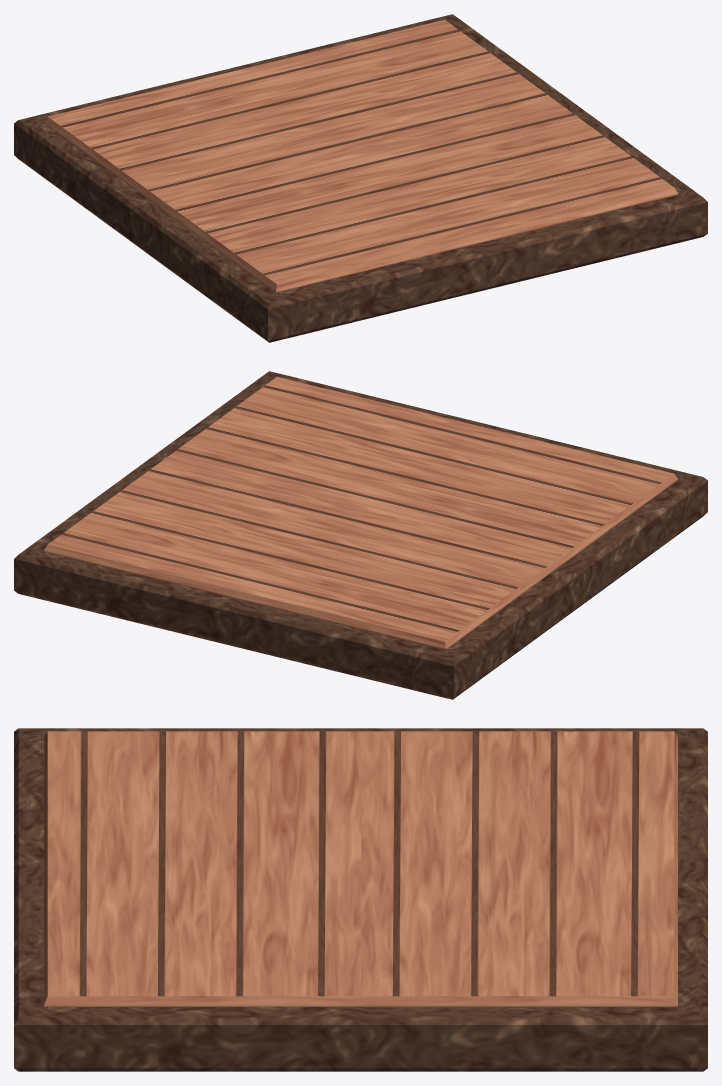
Rendered from big_moving_platform.fbx.
The picture shows the model from 3 angles, top to bottom: view 1: azimuth 30°, elevation 25°; view 2: azimuth 150°, elevation 25°; view 3: azimuth 270°, elevation 25°; orthographic projection. The views are drawn at different scales.
Visible parts, largest first — view 1: Moving Platform; view 2: Moving Platform; view 3: Moving Platform.
Boxes of the visible parts, x1,y1,x2,y2 form: Moving Platform: [14, 14, 707, 342]; Moving Platform: [14, 371, 707, 699]; Moving Platform: [14, 728, 707, 1071].
Bounding box in the file's own units: 374 × 37.51 × 374.
